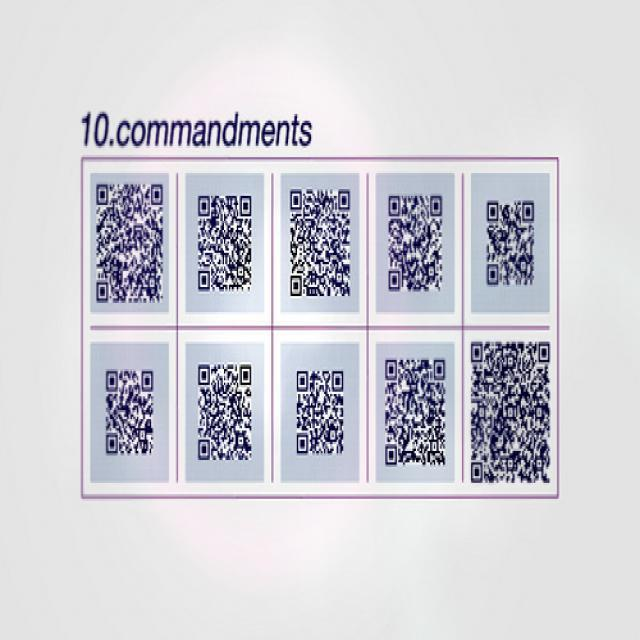qrcode: (472, 343, 550, 484), (97, 186, 162, 302), (292, 190, 351, 295), (386, 361, 445, 466), (199, 365, 252, 459), (199, 197, 252, 290), (389, 197, 441, 290), (106, 370, 153, 454), (298, 372, 344, 454), (488, 202, 534, 284)
